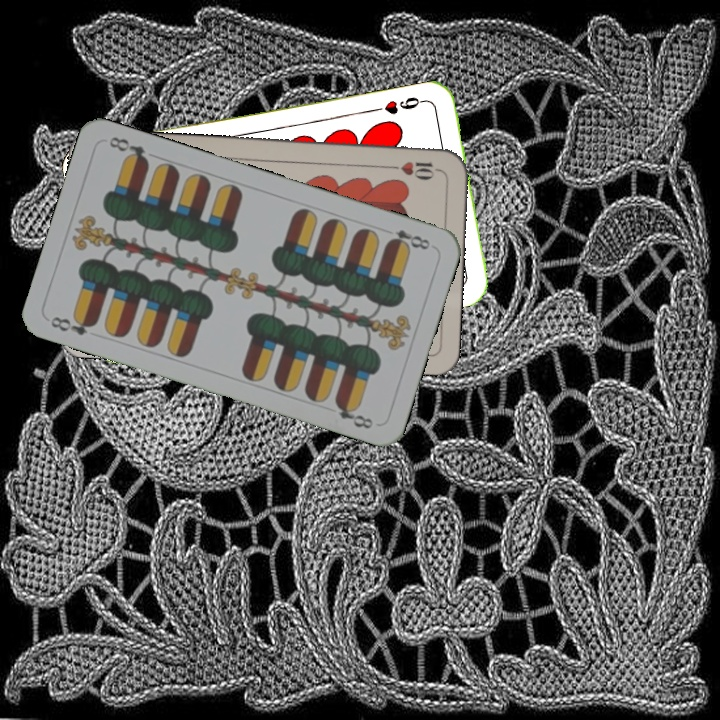E8: (46, 311, 100, 338), (383, 225, 433, 253)
H10: (383, 157, 442, 180)
H9: (371, 92, 430, 117)
